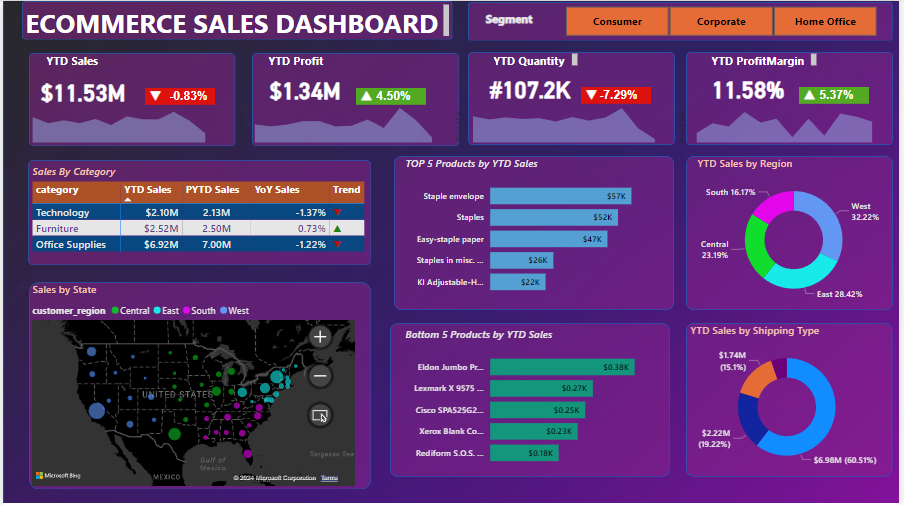

What the dashboard file says about the page in this screenshot:
{"tool":"powerbi","page":{"name":"Page 1","canvas":[1280,720],"ordinal":0},"visuals":[{"type":"shape","box":[36.9,73.7,294.8,133.2],"z":0},{"type":"shape","box":[26.9,0,615.1,55.3],"z":1000},{"type":"textbox","box":[26.9,0,615.1,56.7],"z":2000},{"type":"card","fields":{"Values":["ecommerce_data.YTD Sales"]},"box":[25.7,101.4,177.1,54.3],"z":3000},{"type":"shape","box":[202.9,124.3,100,24.3],"z":4000},{"type":"areaChart","fields":{"Category":["Calendar.Month"],"Y":["Sum(ecommerce_data.sales_per_order)"]},"box":[11.4,137.1,291.4,70],"z":5000},{"type":"card","fields":{"Values":["ecommerce_data.YoY Sales"]},"box":[227.1,118.6,75.7,37.1],"z":6000},{"type":"card","fields":{"Values":["ecommerce_data.Sales Icon"]},"box":[202.9,118.6,30,37.1],"z":7000},{"type":"textbox","box":[56.7,69.4,100.6,34],"z":8000},{"type":"shape","box":[355.7,73.7,296.2,133.2],"z":9000},{"type":"card","fields":{"Values":["ecommerce_data.YTD Profit"]},"box":[342.9,98.6,177.1,54.3],"z":10000},{"type":"shape","box":[504.3,124.3,100,24.3],"z":11000},{"type":"areaChart","fields":{"Category":["Calendar.Month"],"Y":["Sum(ecommerce_data.profit_per_order)"]},"box":[328.6,137.1,298.6,70],"z":12000},{"type":"card","fields":{"Values":["ecommerce_data.YoY Profit"]},"box":[520,118.6,75.7,37.1],"z":13000},{"type":"card","fields":{"Values":["ecommerce_data.Profit Icon"]},"box":[504.3,118.6,30,37.1],"z":14000},{"type":"textbox","box":[374.2,69.4,160.2,31.2],"z":15000},{"type":"shape","box":[664.3,72.9,295.7,132.9],"z":16000},{"type":"card","fields":{"Values":["ecommerce_data.YTD Concatenated Qty"]},"box":[664.3,97.1,177.1,54.3],"z":17000},{"type":"shape","box":[825.7,122.9,100,24.3],"z":18000},{"type":"areaChart","fields":{"Category":["Calendar.Month"],"Y":["Sum(ecommerce_data.order_quantity)"]},"box":[640,137.1,305.7,70],"z":19000},{"type":"card","fields":{"Values":["ecommerce_data.YoY Quantity"]},"box":[841.4,117.1,75.7,37.1],"z":20000},{"type":"card","fields":{"Values":["ecommerce_data.Quantity Icon"]},"box":[825.7,117.1,30,37.1],"z":21000},{"type":"textbox","box":[695.7,70,130,28.6],"z":22000},{"type":"shape","box":[975.7,72.9,295.7,132.9],"z":23000},{"type":"card","fields":{"Values":["ecommerce_data.YTD Profit Margin"]},"box":[975.7,97.1,177.1,54.3],"z":24000},{"type":"shape","box":[1137.1,122.9,100,24.3],"z":25000},{"type":"areaChart","fields":{"Category":["Calendar.Month"],"Y":["ecommerce_data.Profit Margin"]},"box":[960,137.1,295.7,70],"z":26000},{"type":"card","fields":{"Values":["ecommerce_data.YoY Profit Margin"]},"box":[1152.9,117.1,75.7,37.1],"z":27000},{"type":"card","fields":{"Values":["ecommerce_data.Profit Margin Icon"]},"box":[1137.1,117.1,30,37.1],"z":28000},{"type":"textbox","box":[1007.1,70,160,28.6],"z":29000},{"type":"shape","box":[35.4,226.8,490.4,150.2],"z":30000},{"type":"pivotTable","title":"Sales By Category","fields":{"Rows":["ecommerce_data.category_name"],"Values":["ecommerce_data.YTD Sales","ecommerce_data.PYTD Sales","ecommerce_data.YoY Sales","ecommerce_data.Sales Icon"]},"box":[36.9,232.4,489,138.9],"z":31000},{"type":"shape","box":[36.9,401.1,489,296.2],"z":32000},{"type":"map","title":"Sales by State","fields":{"Y":["us_state_long_lat_codes.latitude"],"X":["us_state_long_lat_codes.longitude"],"Size":["ecommerce_data.YTD Sales"],"Series":["ecommerce_data.customer_region"]},"box":[36.9,401.1,470.6,296.2],"z":33000},{"type":"shape","box":[558.4,221.1,400,220],"z":34000},{"type":"shape","box":[552.8,460.6,399.7,219.7],"z":35000},{"type":"barChart","title":"TOP 5 Products by YTD Sales","fields":{"Category":["ecommerce_data.product_name"],"Y":["ecommerce_data.YTD Sales"]},"box":[569.8,221.1,377,209.8],"z":36000},{"type":"barChart","title":"Bottom 5 Products by YTD Sales","fields":{"Category":["ecommerce_data.product_name"],"Y":["ecommerce_data.YTD Sales"]},"box":[569.8,466.3,377,209.8],"z":37000},{"type":"shape","box":[976,221.7,295.6,220.1],"z":38000},{"type":"shape","box":[975.1,460.6,294.8,219.7],"z":39000},{"type":"donutChart","title":"YTD Sales by Region","fields":{"Category":["ecommerce_data.customer_region"],"Y":["ecommerce_data.YTD Sales"]},"box":[986.5,221.1,284.9,219.7],"z":40000},{"type":"donutChart","title":"YTD Sales by Shipping Type","fields":{"Category":["ecommerce_data.shipping_type"],"Y":["ecommerce_data.YTD Sales"]},"box":[976.5,460.6,284.9,219.7],"z":41000},{"type":"shape","box":[664.7,1.4,606.6,55.3],"z":42000},{"type":"slicer","fields":{"Values":["ecommerce_data.customer_segment"]},"box":[778.1,1.4,493.2,55.3],"z":43000},{"type":"textbox","box":[676.1,9.9,102,36.9],"z":44000}]}

Visuals, with their boxes in screenshot pixels (x1, y1, x2, y2), scaled from the page's 1280x720 canvas onto the 904x505 screenshot:
shape: (left=26, top=52, right=234, bottom=145)
shape: (left=19, top=0, right=453, bottom=39)
textbox: (left=19, top=0, right=453, bottom=40)
card - ecommerce_data.YTD Sales: (left=18, top=71, right=143, bottom=109)
shape: (left=143, top=87, right=214, bottom=104)
areaChart - Calendar.Month x Sum(ecommerce_data.sales_per_order): (left=8, top=96, right=214, bottom=145)
card - ecommerce_data.YoY Sales: (left=160, top=83, right=214, bottom=109)
card - ecommerce_data.Sales Icon: (left=143, top=83, right=164, bottom=109)
textbox: (left=40, top=49, right=111, bottom=73)
shape: (left=251, top=52, right=460, bottom=145)
card - ecommerce_data.YTD Profit: (left=242, top=69, right=367, bottom=107)
shape: (left=356, top=87, right=427, bottom=104)
areaChart - Calendar.Month x Sum(ecommerce_data.profit_per_order): (left=232, top=96, right=443, bottom=145)
card - ecommerce_data.YoY Profit: (left=367, top=83, right=421, bottom=109)
card - ecommerce_data.Profit Icon: (left=356, top=83, right=377, bottom=109)
textbox: (left=264, top=49, right=377, bottom=71)
shape: (left=469, top=51, right=678, bottom=144)
card - ecommerce_data.YTD Concatenated Qty: (left=469, top=68, right=594, bottom=106)
shape: (left=583, top=86, right=654, bottom=103)
areaChart - Calendar.Month x Sum(ecommerce_data.order_quantity): (left=452, top=96, right=668, bottom=145)
card - ecommerce_data.YoY Quantity: (left=594, top=82, right=648, bottom=108)
card - ecommerce_data.Quantity Icon: (left=583, top=82, right=604, bottom=108)
textbox: (left=491, top=49, right=583, bottom=69)
shape: (left=689, top=51, right=898, bottom=144)
card - ecommerce_data.YTD Profit Margin: (left=689, top=68, right=814, bottom=106)
shape: (left=803, top=86, right=874, bottom=103)
areaChart - Calendar.Month x ecommerce_data.Profit Margin: (left=678, top=96, right=887, bottom=145)
card - ecommerce_data.YoY Profit Margin: (left=814, top=82, right=868, bottom=108)
card - ecommerce_data.Profit Margin Icon: (left=803, top=82, right=824, bottom=108)
textbox: (left=711, top=49, right=824, bottom=69)
shape: (left=25, top=159, right=371, bottom=264)
"Sales By Category" pivotTable: (left=26, top=163, right=371, bottom=260)
shape: (left=26, top=281, right=371, bottom=489)
"Sales by State" map: (left=26, top=281, right=358, bottom=489)
shape: (left=394, top=155, right=677, bottom=309)
shape: (left=390, top=323, right=673, bottom=477)
"TOP 5 Products by YTD Sales" barChart: (left=402, top=155, right=669, bottom=302)
"Bottom 5 Products by YTD Sales" barChart: (left=402, top=327, right=669, bottom=474)
shape: (left=689, top=155, right=898, bottom=310)
shape: (left=689, top=323, right=897, bottom=477)
"YTD Sales by Region" donutChart: (left=697, top=155, right=898, bottom=309)
"YTD Sales by Shipping Type" donutChart: (left=690, top=323, right=891, bottom=477)
shape: (left=469, top=1, right=898, bottom=40)
slicer - ecommerce_data.customer_segment: (left=550, top=1, right=898, bottom=40)
textbox: (left=477, top=7, right=550, bottom=33)
